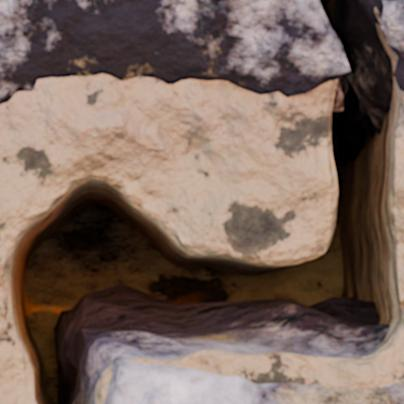brick: (104, 360, 403, 403)
broken_brick: (0, 0, 348, 105), (381, 0, 403, 91)
crack: (0, 0, 403, 403)
